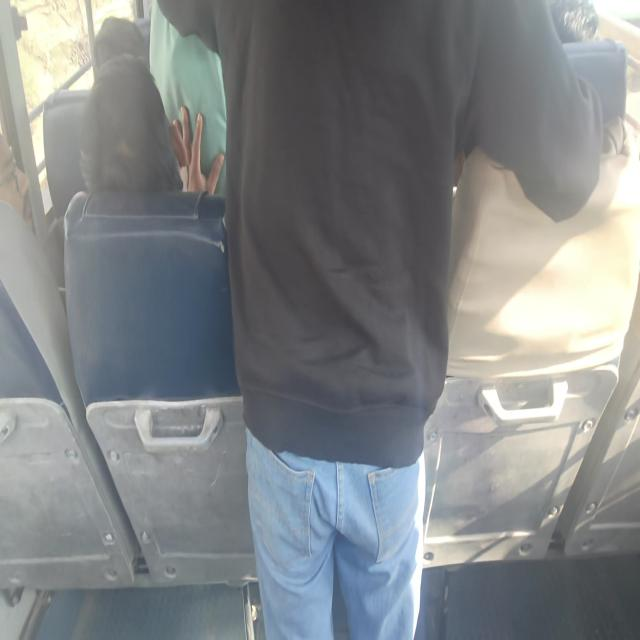person: (150, 0, 604, 638), (78, 52, 225, 196), (148, 0, 227, 194), (92, 15, 148, 74)
